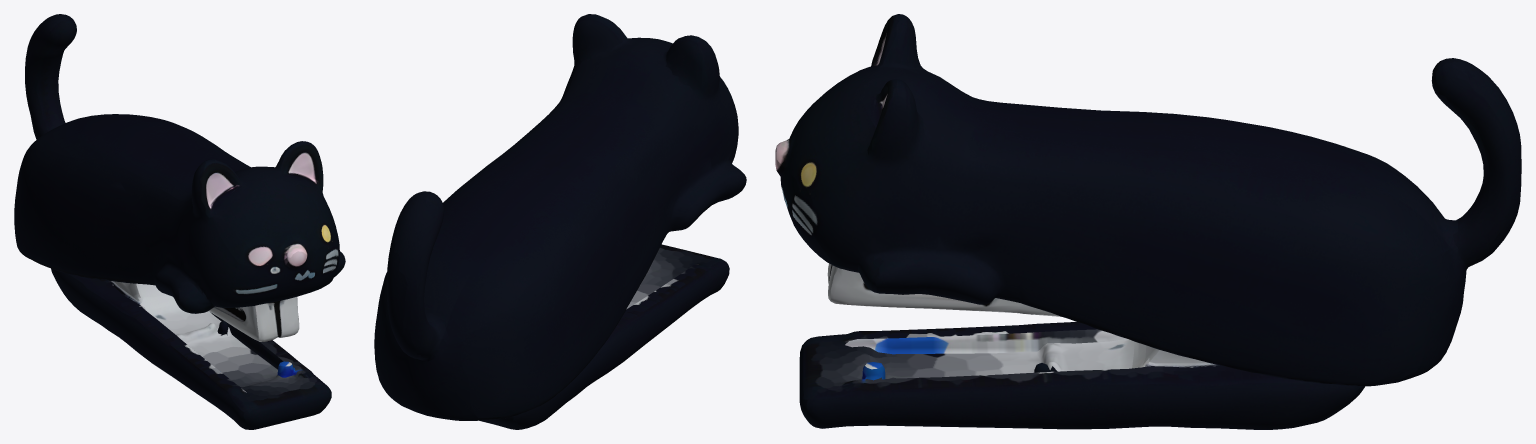
Rendered from stitcher_textured.glb.
3 views of the same model, side by side, from view 1: azimuth 30°, elevation 25°; view 2: azimuth 150°, elevation 25°; view 3: azimuth 270°, elevation 25° (orthographic). The views are drawn at different scales.
Visible parts, largest first — view 1: stitcher_textured; view 2: stitcher_textured; view 3: stitcher_textured.
Part boxes in pixels (box(x1,y1,x2,y2)): stitcher_textured: box(14, 14, 345, 429); stitcher_textured: box(374, 14, 746, 429); stitcher_textured: box(775, 14, 1521, 429).
Size of the model in its own units: 0.3674 by 0.5285 by 1.
1 material, 1 textured.
